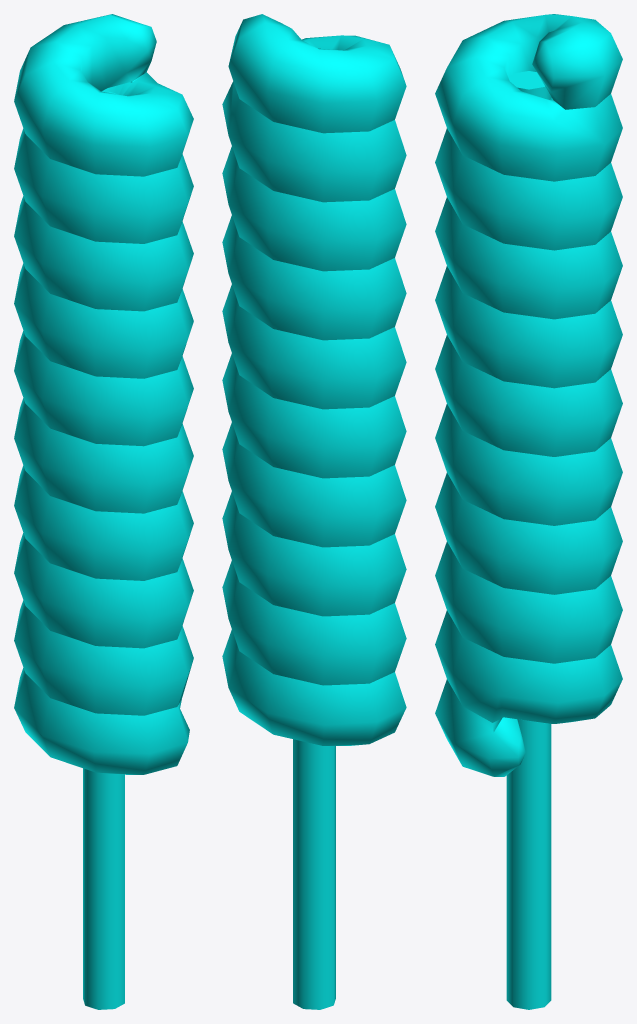
File: Piruleta HP 2.fbx
3 renders of one model, left to right at view 1: azimuth 30°, elevation 25°; view 2: azimuth 150°, elevation 25°; view 3: azimuth 270°, elevation 25°, orthographic. The views are drawn at different scales.
Visible parts, largest first — view 1: Piruleta LP 1; view 2: Piruleta LP 1; view 3: Piruleta LP 1.
Boxes of the visible parts, x1,y1,x2,y2 form: Piruleta LP 1: (14, 14, 193, 1009); Piruleta LP 1: (222, 14, 406, 1009); Piruleta LP 1: (435, 14, 622, 1009).
Bounding box in the file's own units: 130 × 793 × 137.
